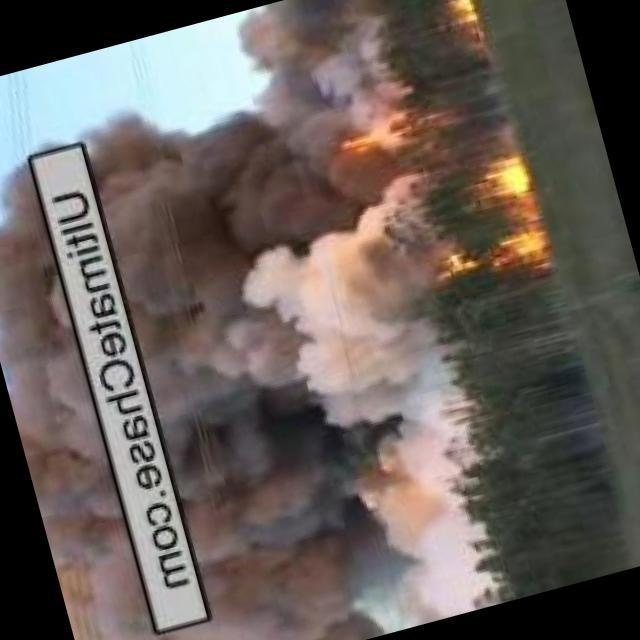Fire: (420, 159, 549, 291), (326, 113, 436, 175), (441, 1, 476, 36)
